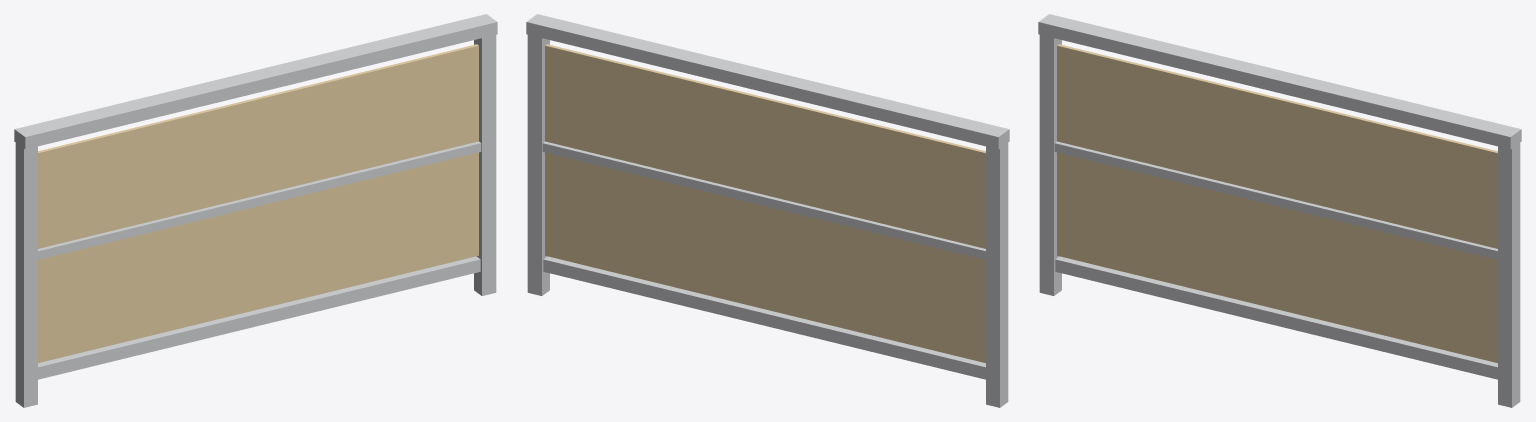
The model's file is HJ_BarandaBalcon.fbx.
The picture shows the model from 3 angles, left to right: view 1: azimuth 30°, elevation 25°; view 2: azimuth 150°, elevation 25°; view 3: azimuth 330°, elevation 25°; orthographic projection.
Visible parts, largest first — view 1: HJ_BarandaBalcon; view 2: HJ_BarandaBalcon; view 3: HJ_BarandaBalcon.
Boxes of the visible parts, x1,y1,x2,y2 form: HJ_BarandaBalcon: [14, 14, 497, 407]; HJ_BarandaBalcon: [526, 14, 1009, 407]; HJ_BarandaBalcon: [1038, 14, 1521, 407].
Size of the model in its own units: 2 by 1.1 by 0.08.
